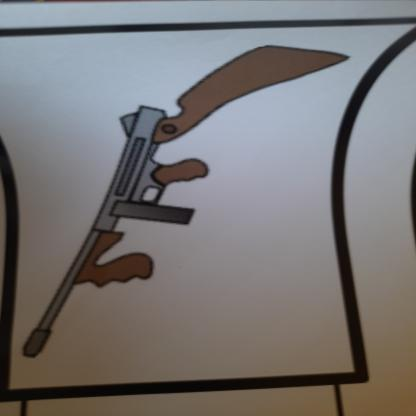Bootlegger: (11, 43, 354, 370)
